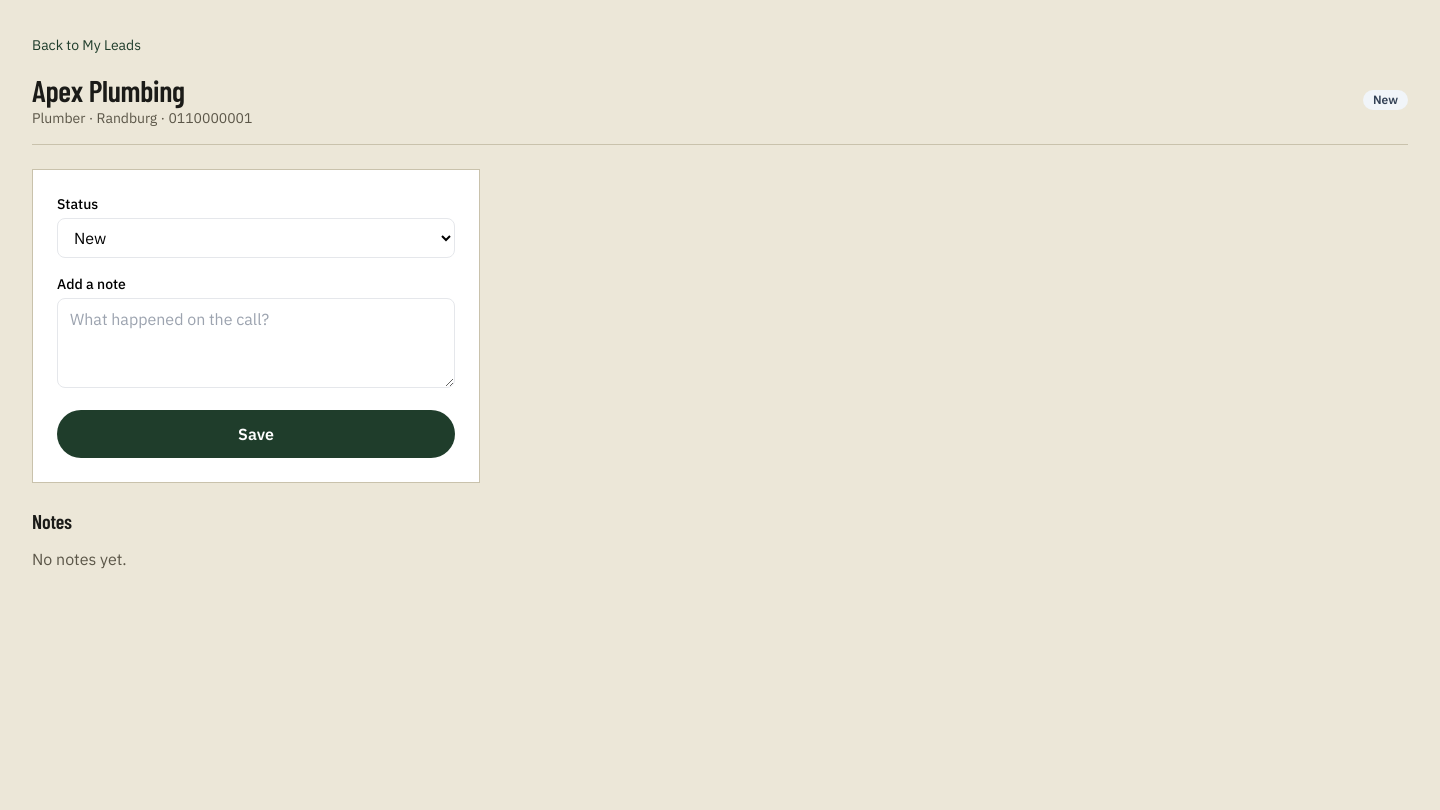
Test: UpdateStatusScreen › saves a new status and note
Expected: the heading "Apex Plumbing" is shown, [32,72,185,108]
Select "Contacted" in the dropdown labelled "Status" at (256, 238), box [57,218,455,258]
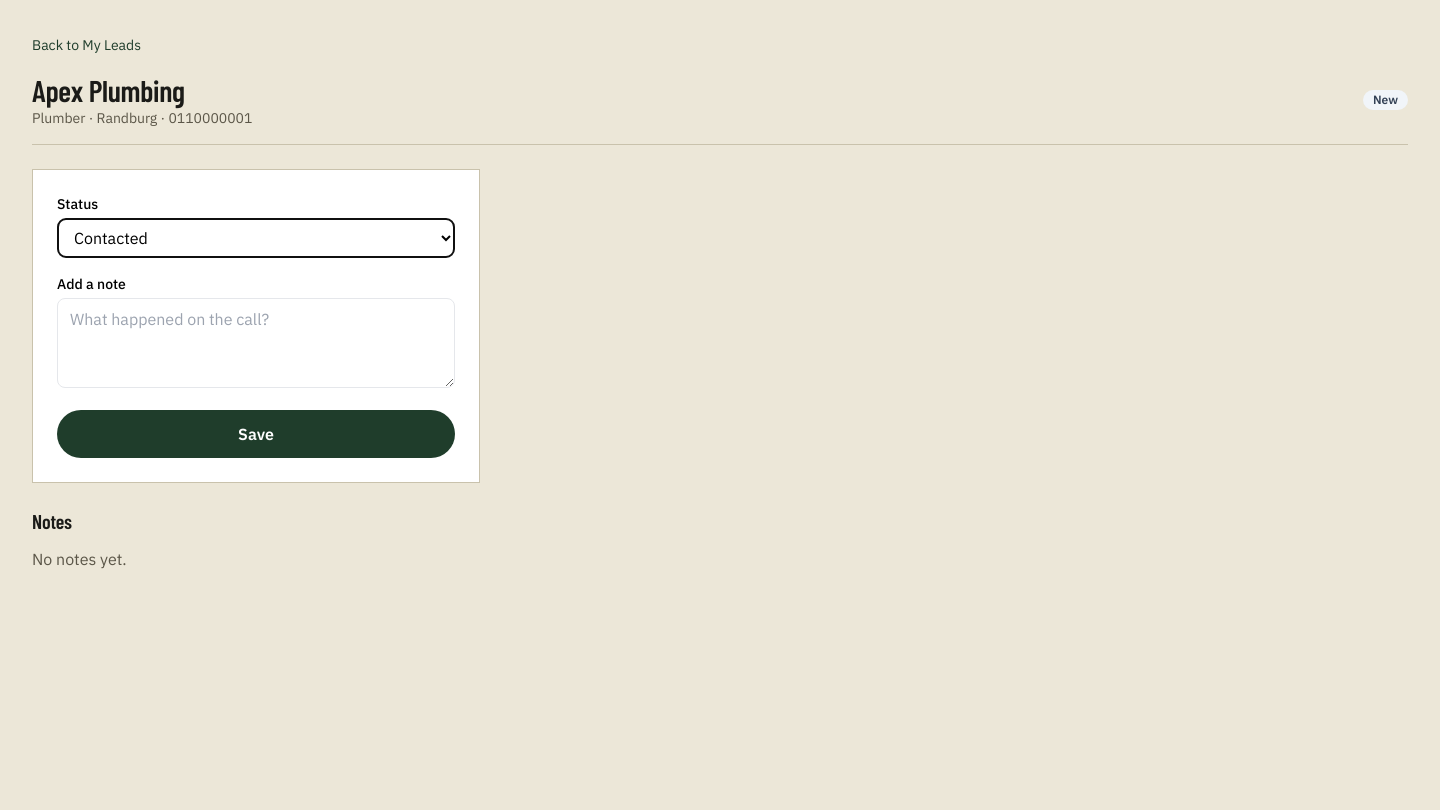
Type "Spoke to the owner" into the text box labelled "Add a note" at (256, 343), box [57,298,455,388]
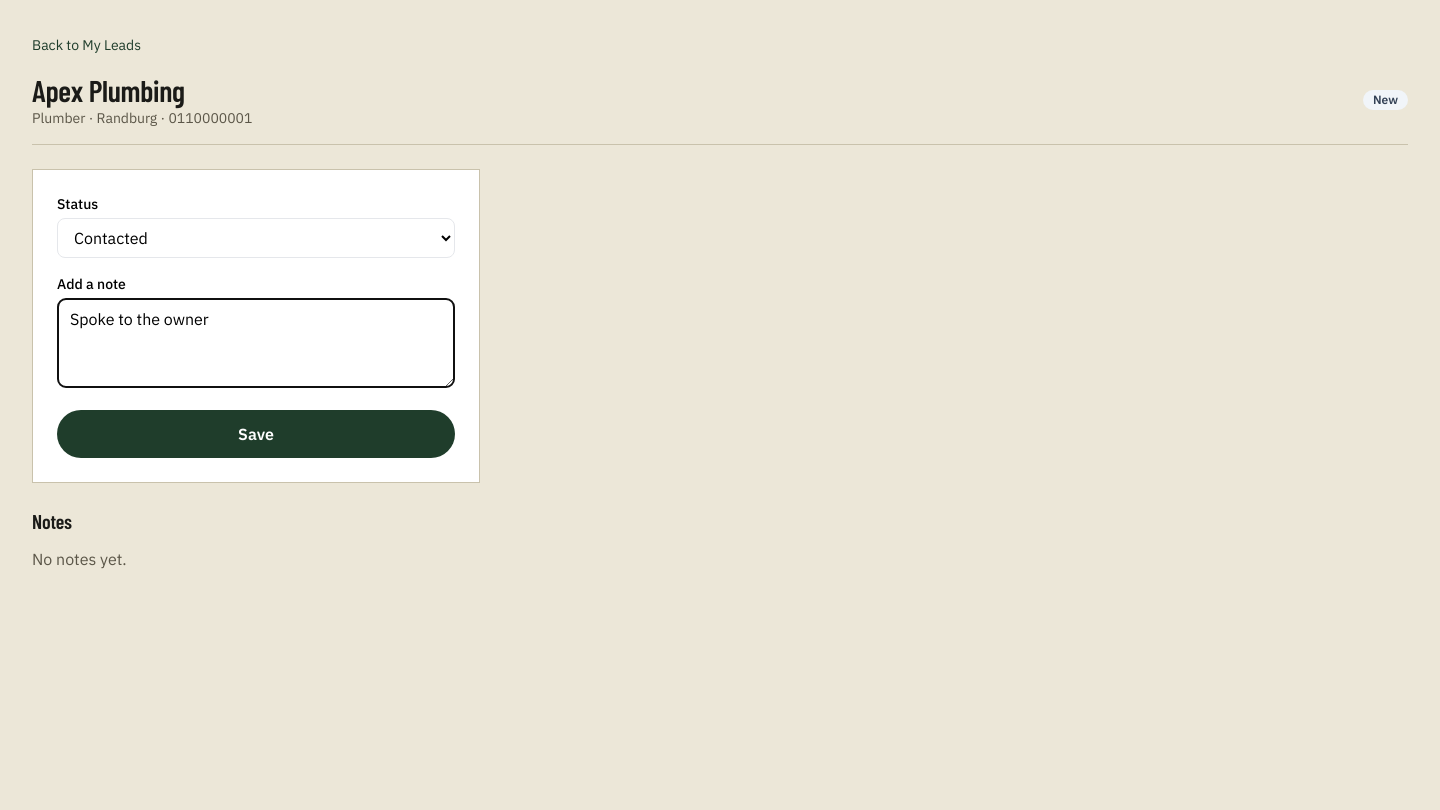
Click the button "Save" at (256, 434), box [57,410,455,458]
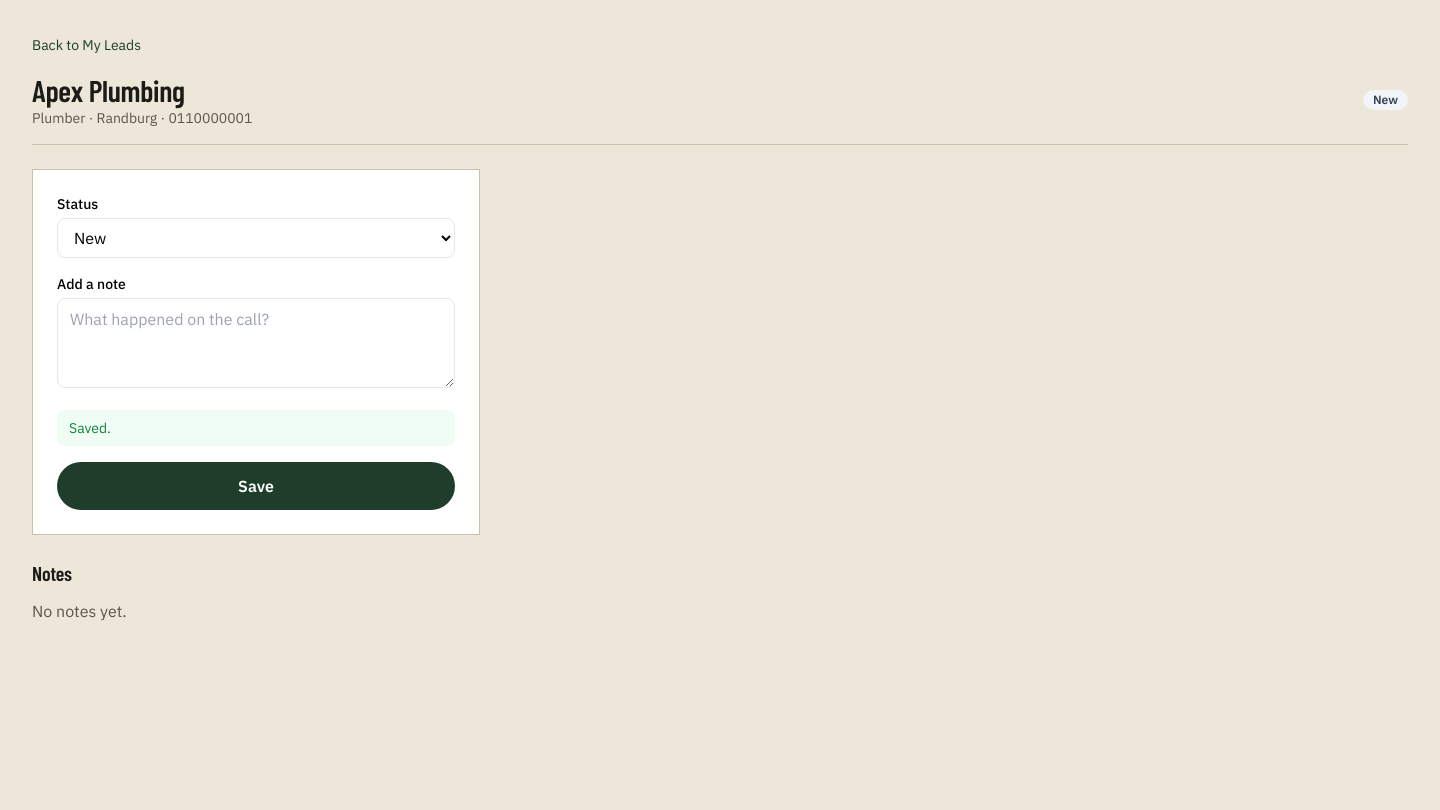
Result: the text "Saved." is shown at [57,410,455,446]
